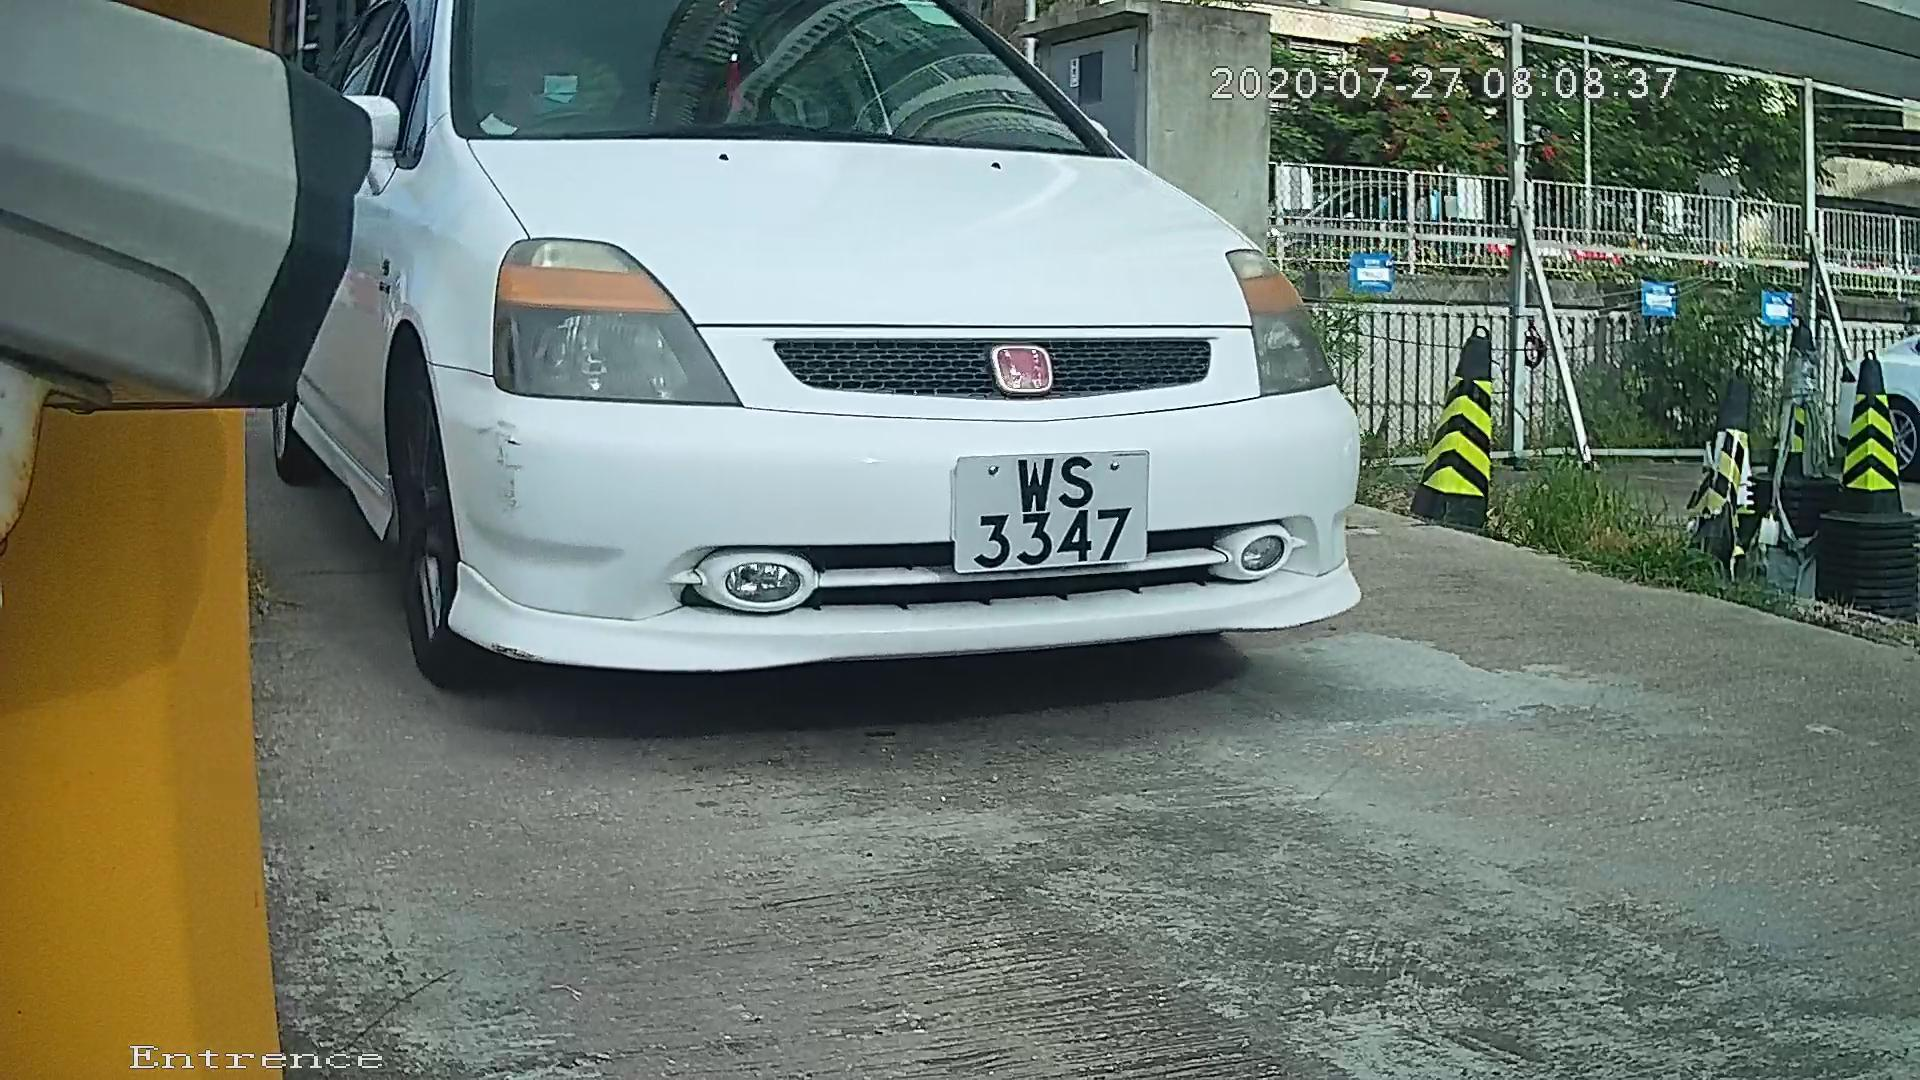License Plate: (926, 439, 1175, 589)
